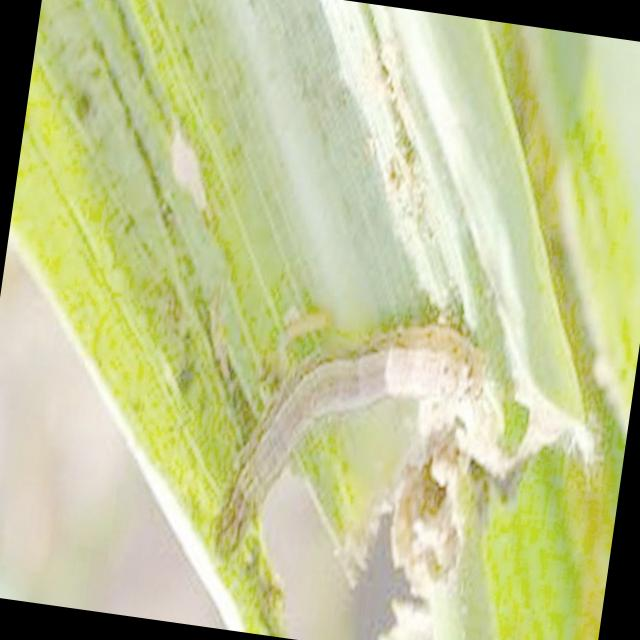pest: (216, 309, 486, 583)
